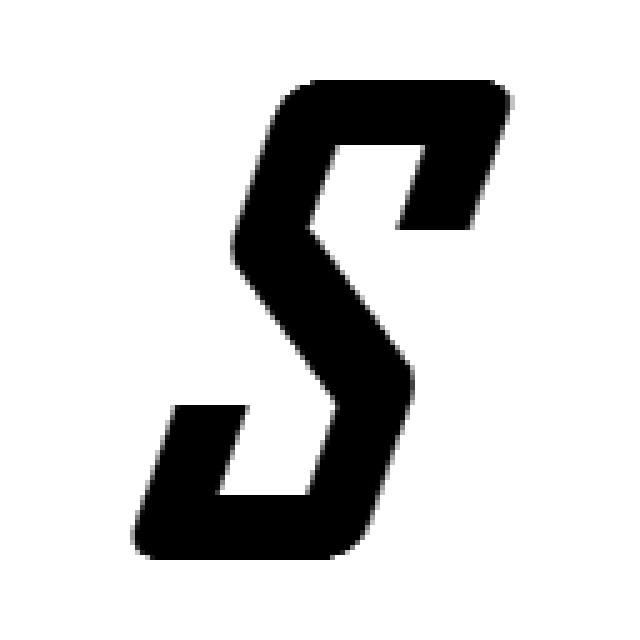S: (125, 70, 515, 565)
